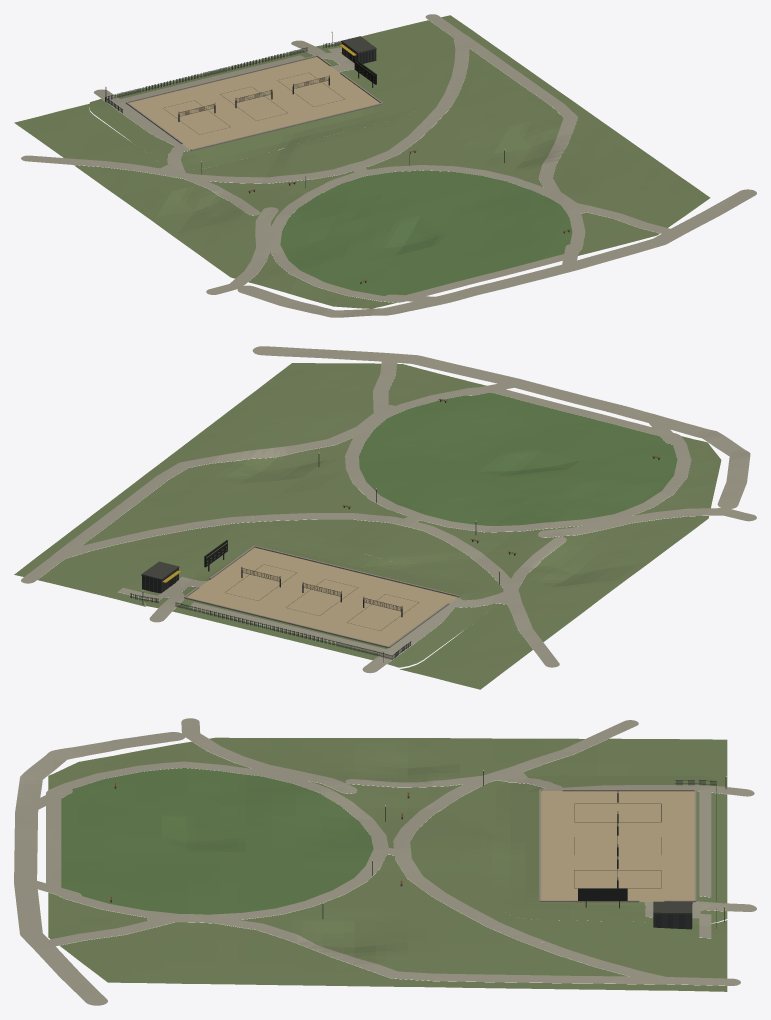
The model's file is site.glb.
3 renders of one model, top to bottom at view 1: azimuth 30°, elevation 25°; view 2: azimuth 150°, elevation 25°; view 3: azimuth 270°, elevation 25°, orthographic. The views are drawn at different scales.
Visible parts, largest first — view 1: hamilton-dunes-park-surface, hamilton-dunes-walkable, hamilton-dunes-landscape, uo-duck-dunes-support; view 2: hamilton-dunes-park-surface, hamilton-dunes-walkable, hamilton-dunes-landscape, uo-duck-dunes-support; view 3: hamilton-dunes-park-surface, hamilton-dunes-walkable, hamilton-dunes-landscape, uo-duck-dunes-support.
Boxes of the visible parts, x1,y1,x2,y2 form: hamilton-dunes-park-surface: (14, 14, 756, 317); hamilton-dunes-walkable: (89, 40, 459, 180); hamilton-dunes-landscape: (105, 31, 570, 283); uo-duck-dunes-support: (339, 36, 376, 63); hamilton-dunes-park-surface: (14, 346, 756, 689); hamilton-dunes-walkable: (118, 516, 519, 673); hamilton-dunes-landscape: (130, 398, 660, 662); uo-duck-dunes-support: (141, 561, 181, 593); hamilton-dunes-park-surface: (14, 718, 740, 1005); hamilton-dunes-walkable: (476, 774, 756, 942); hamilton-dunes-landscape: (110, 769, 726, 928); uo-duck-dunes-support: (653, 901, 692, 929).
Size of the model in its own units: 129 by 5.5 by 137.
